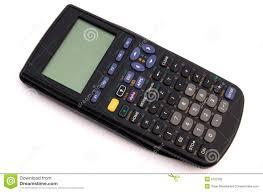Calculator: (16, 1, 251, 172)
